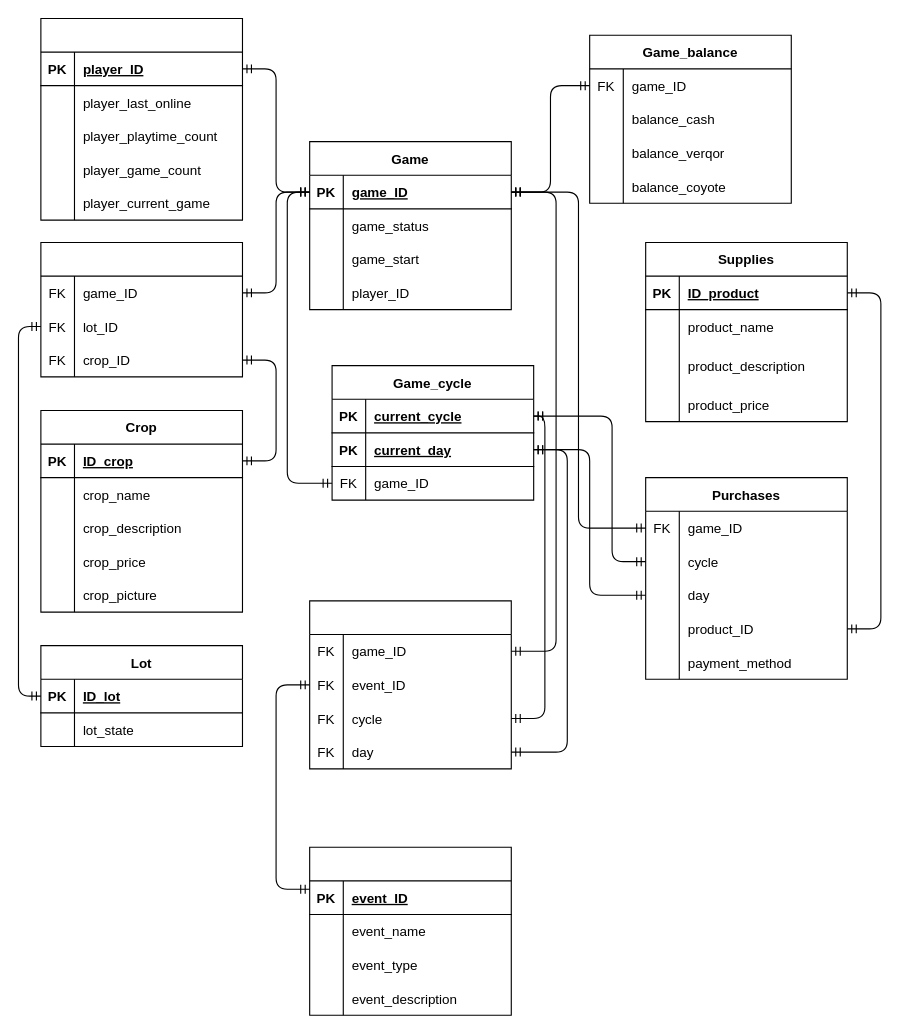
Some shapes in this 899 by 1034 pixel diagram are drawn without their labels. The shapes that lost their labels are listed below. From the top down, each one's box as (x1, y1, x2, y2) in pixels, then its label:
(40, 17, 242, 220): Player_stats
(40, 241, 242, 377): Game_land_setup
(309, 600, 511, 769): Game_event_log
(309, 846, 511, 1015): Events
